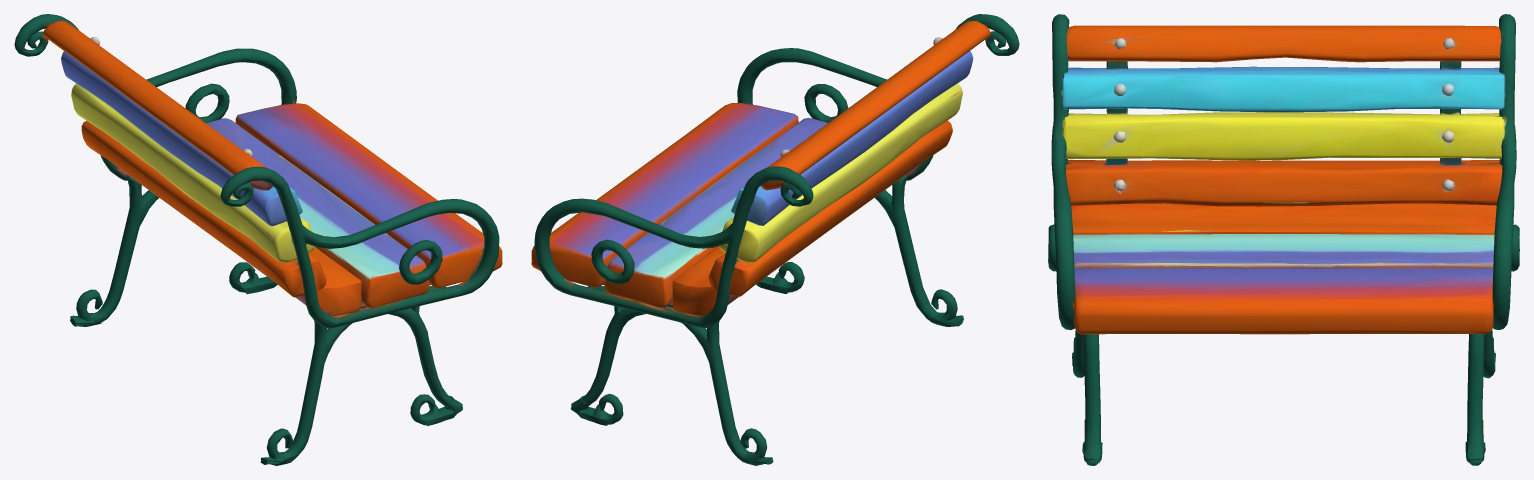
The model's file is bench.glb.
The picture shows the model from 3 angles, left to right: view 1: azimuth 30°, elevation 25°; view 2: azimuth 150°, elevation 25°; view 3: azimuth 270°, elevation 25°; orthographic projection. The views are drawn at different scales.
Visible parts, largest first — view 1: tripo_node_c0a65f46-6c51-4850-a3a6-916ae3d97299; view 2: tripo_node_c0a65f46-6c51-4850-a3a6-916ae3d97299; view 3: tripo_node_c0a65f46-6c51-4850-a3a6-916ae3d97299.
Boxes of the visible parts, x1,y1,x2,y2 form: tripo_node_c0a65f46-6c51-4850-a3a6-916ae3d97299: (14,14,502,465); tripo_node_c0a65f46-6c51-4850-a3a6-916ae3d97299: (531,14,1019,465); tripo_node_c0a65f46-6c51-4850-a3a6-916ae3d97299: (1048,14,1519,465).
Size of the model in its own units: 0.8699 by 0.9 by 1.15.
Materials: 1 (1 with a texture image).
